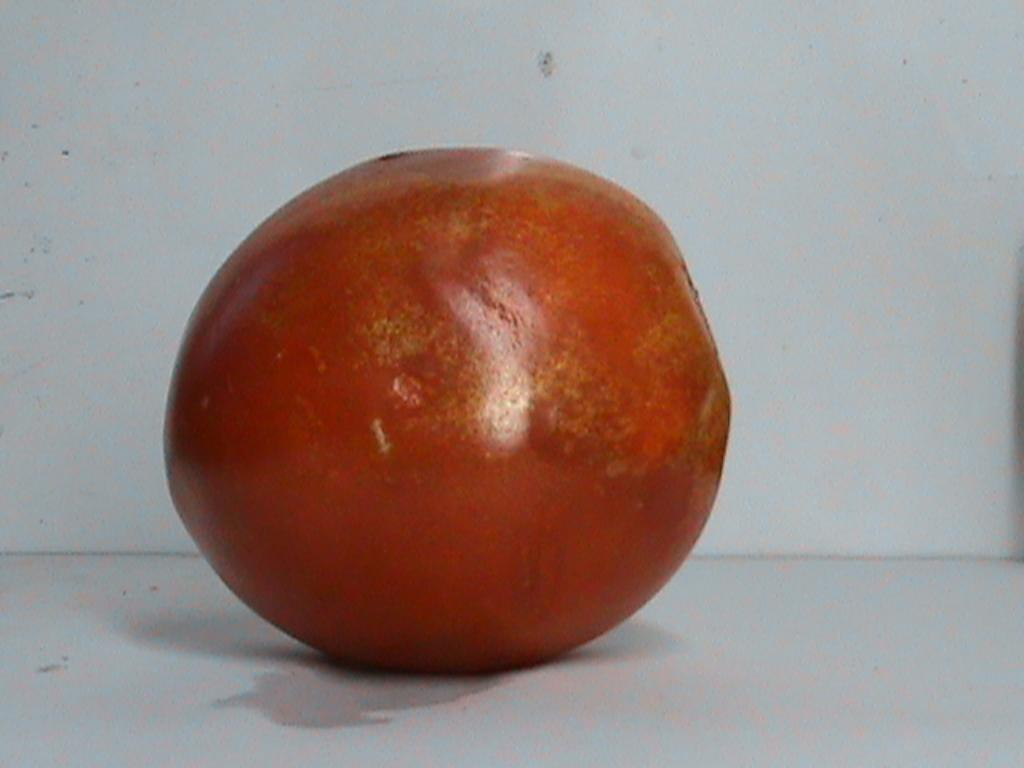bruise_discoloration: (195, 160, 728, 531)
tomato: (165, 149, 728, 670)
